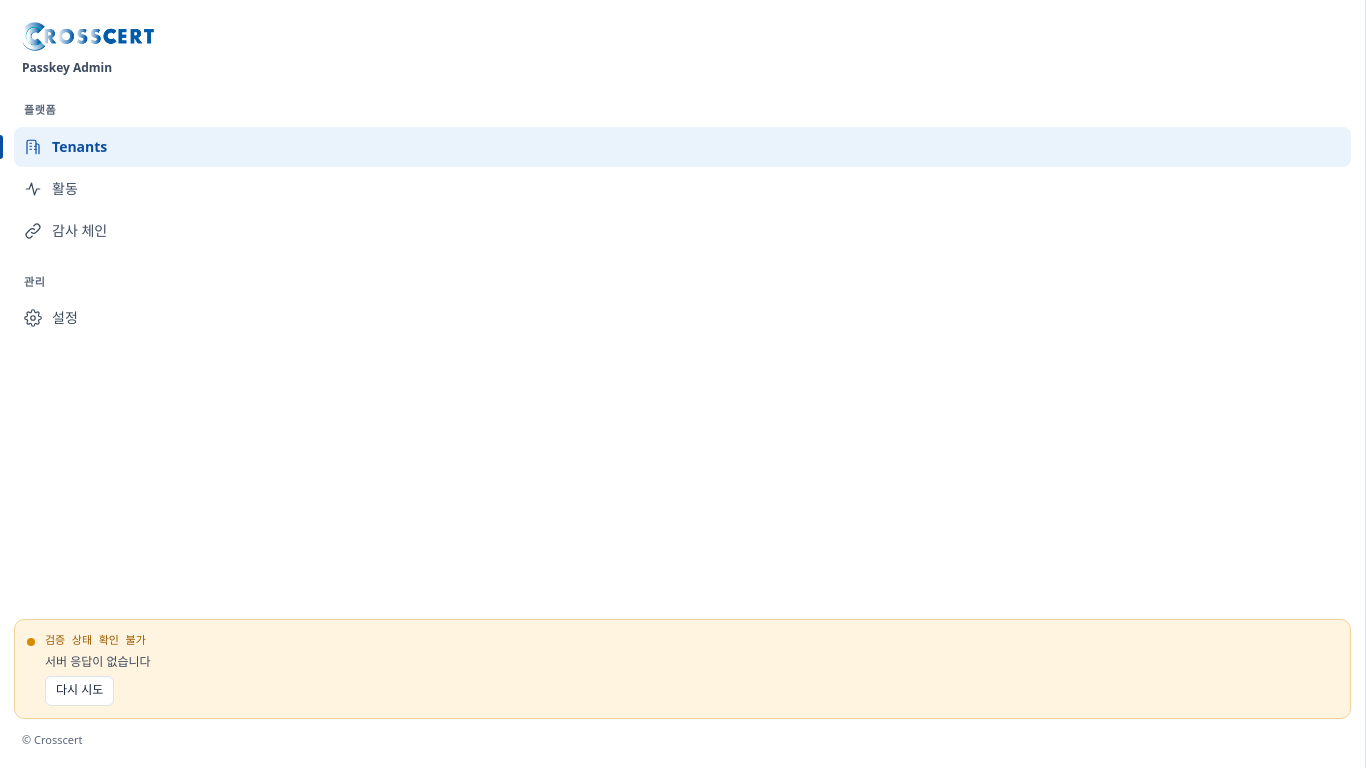
it: Sidebar V3 › 다시 시도가 진행 중인 폴링 조회를 대체하면, 늦게 도착한 옛 응답은 무시한다
Check: the text "검증 상태 확인 불가" is shown, box x1=45 y1=632 x2=151 y2=649
Click the button "다시 시도" at [80, 691], box x1=45 y1=676 x2=114 y2=706
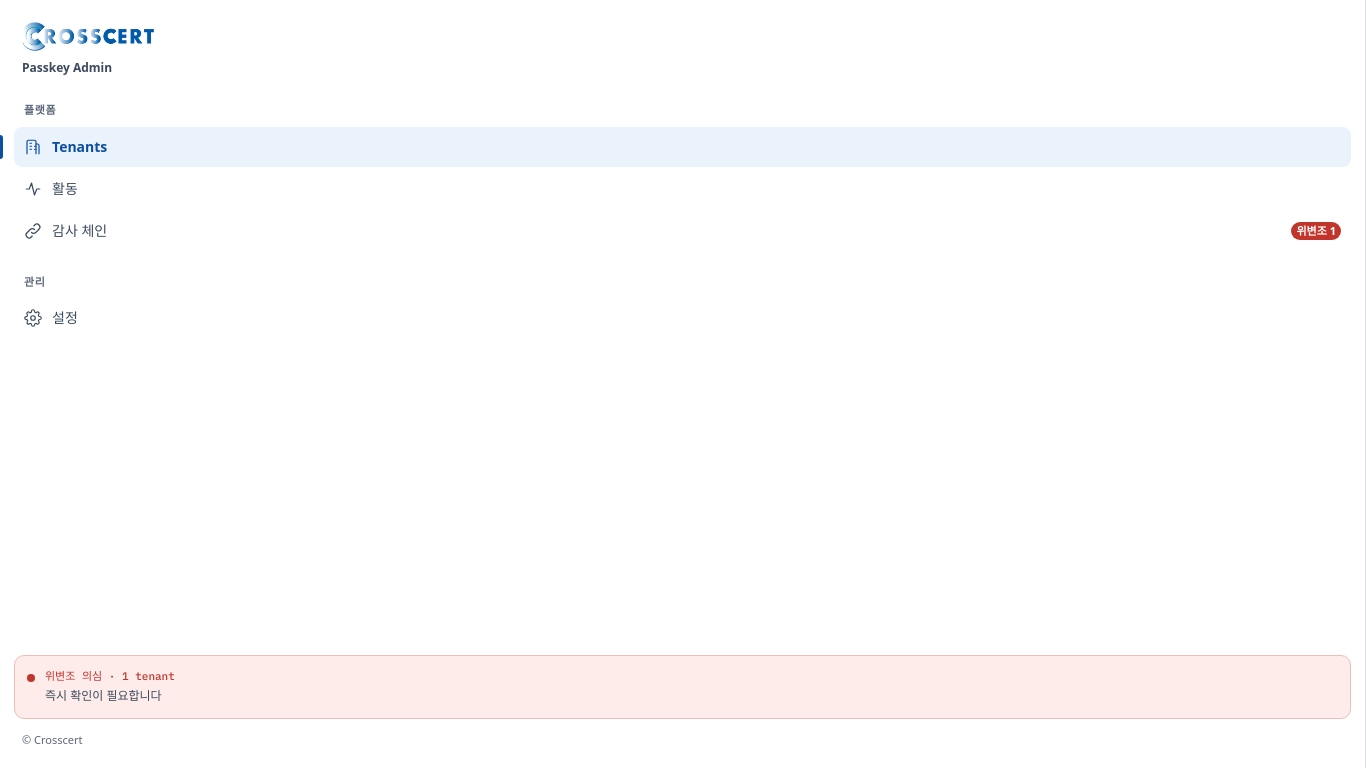
Check: the text "위변조 의심 · 1 tenant" is shown, box x1=45 y1=668 x2=175 y2=685
